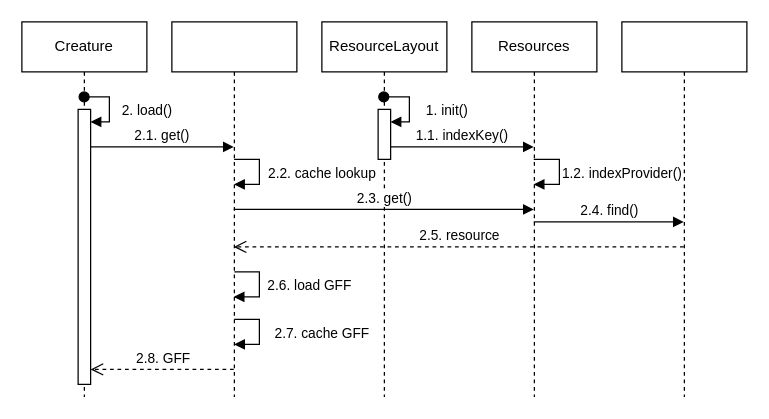
Some shapes in this 769 by 419 pixel diagram are drawn without their labels. Here are the shapes that lost their labels. From the top down, the centre of each, then its label:
At (x=234, y=209): "Gffs".
At (x=684, y=209): "IResourceProvider".
